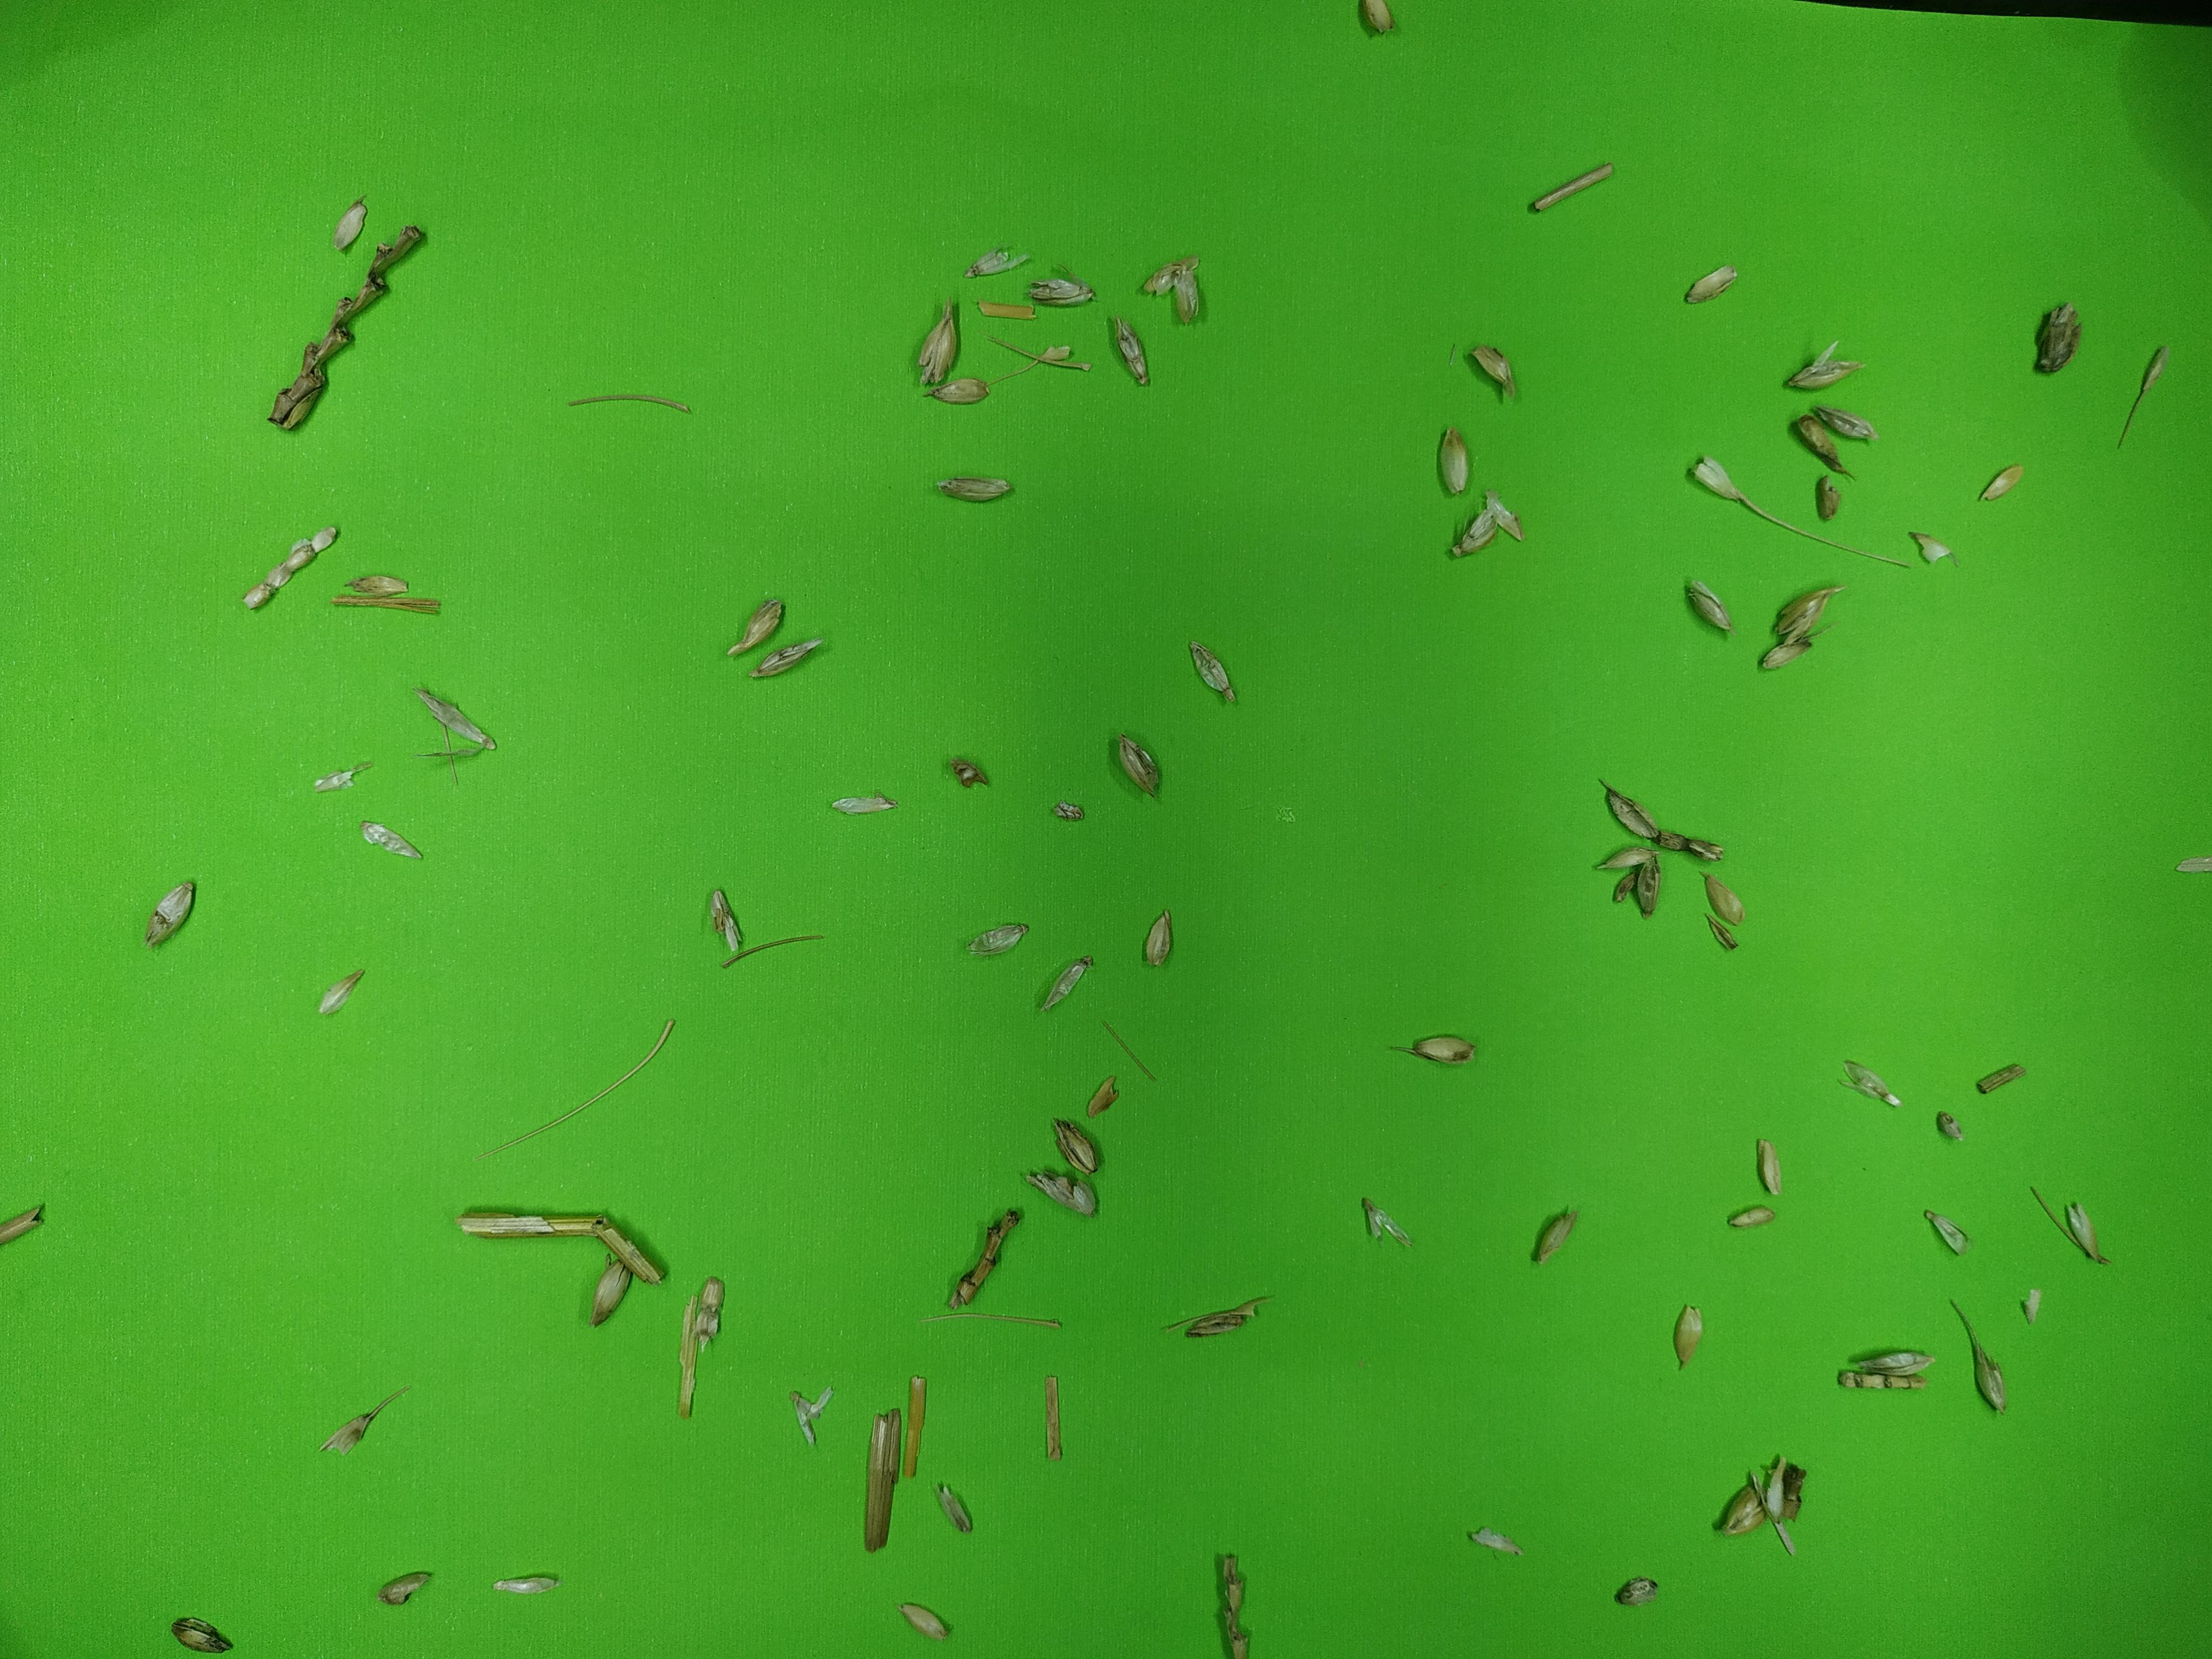impureza: (272, 223, 428, 432), (475, 1014, 679, 1161), (453, 1204, 667, 1284), (240, 519, 340, 612), (949, 1202, 1021, 1312), (1681, 450, 1782, 525), (1949, 1295, 2010, 1419), (860, 1406, 907, 1553), (322, 1384, 416, 1457), (2113, 340, 2172, 453), (676, 1298, 725, 1424), (409, 685, 498, 751), (1527, 159, 1622, 214), (1791, 408, 1858, 484), (1785, 521, 1904, 565), (1165, 1293, 1273, 1340), (1778, 338, 1869, 394), (716, 929, 829, 972), (914, 296, 963, 397), (1592, 770, 1658, 843), (1216, 1542, 1254, 1659), (1109, 728, 1167, 805), (143, 875, 200, 951), (1385, 1026, 1482, 1070), (2022, 1182, 2080, 1255), (988, 333, 1090, 373), (721, 601, 789, 660), (1780, 584, 1848, 643), (2034, 300, 2087, 376), (1019, 1166, 1097, 1216), (585, 1256, 634, 1335), (745, 636, 831, 680), (1036, 953, 1097, 1014), (1183, 640, 1240, 704), (1099, 1018, 1157, 1082), (932, 465, 1015, 509), (1527, 1204, 1583, 1267), (1468, 343, 1521, 410), (1108, 314, 1155, 387), (1359, 1194, 1416, 1253), (1764, 1450, 1808, 1527), (1035, 1373, 1071, 1464), (1047, 1114, 1103, 1173), (1683, 577, 1737, 638), (1836, 1058, 1898, 1110), (1831, 1363, 1935, 1394), (1026, 267, 1101, 310), (1810, 403, 1883, 446), (918, 1307, 1068, 1328), (566, 394, 693, 418), (961, 917, 1029, 962), (1919, 1202, 1972, 1260), (900, 1368, 927, 1483), (361, 816, 428, 859), (1714, 1481, 1766, 1537), (1583, 842, 1667, 877), (1698, 871, 1749, 927), (932, 1474, 975, 1539), (167, 1614, 237, 1654), (1435, 420, 1468, 504), (326, 190, 368, 256), (1851, 1345, 1944, 1375), (1136, 254, 1198, 298), (1449, 504, 1496, 561), (789, 1387, 831, 1452), (1141, 903, 1179, 972), (1752, 1133, 1791, 1202), (958, 244, 1029, 281), (1651, 830, 1726, 864), (1670, 1302, 1705, 1375), (2066, 1195, 2102, 1265), (333, 592, 444, 615), (897, 1601, 954, 1645), (827, 786, 899, 821), (1684, 261, 1740, 305), (1169, 270, 1207, 333), (1460, 1521, 1524, 1558), (1480, 488, 1524, 540), (1972, 1060, 2036, 1094), (308, 760, 373, 795), (1632, 854, 1667, 918), (928, 375, 1000, 406), (322, 967, 368, 1016), (711, 890, 745, 953), (378, 1570, 437, 1607), (491, 1568, 559, 1600), (0, 1204, 51, 1246), (345, 570, 409, 601), (1759, 638, 1813, 674), (693, 1272, 733, 1319), (1702, 911, 1743, 953), (1907, 528, 1951, 568), (974, 298, 1038, 324), (1808, 476, 1844, 521), (1355, 0, 1400, 37), (1980, 464, 2024, 500), (946, 755, 989, 791), (1085, 1073, 1118, 1121), (1611, 1572, 1656, 1605), (2013, 1284, 2048, 1323), (1728, 1204, 1775, 1230), (1766, 1516, 1796, 1556), (1611, 868, 1641, 906), (1933, 1105, 1963, 1141), (1045, 798, 1087, 823), (725, 1270, 733, 1274), (1029, 310, 1036, 312)
